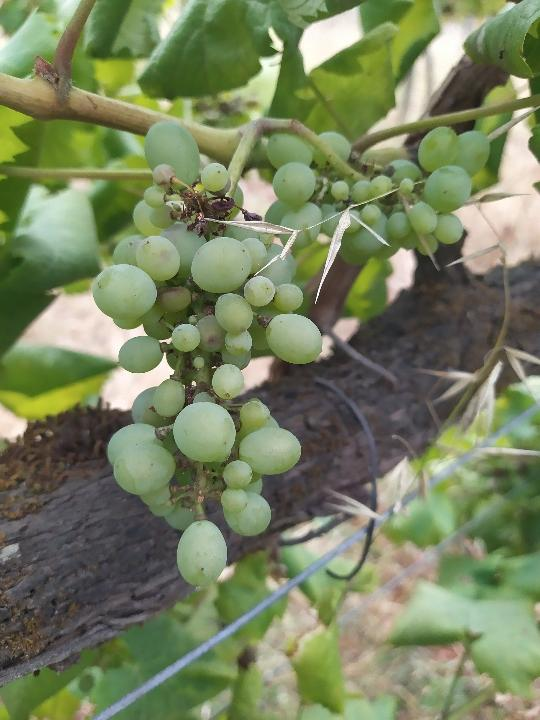grape: (88, 116, 327, 592)
